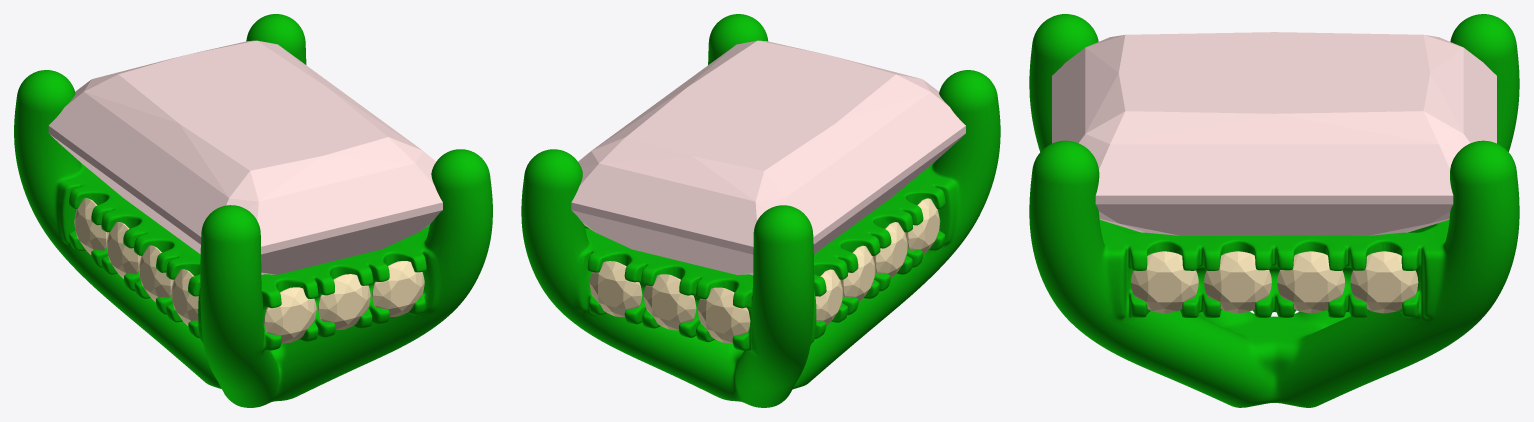
3 renders of one model, left to right at view 1: azimuth 30°, elevation 25°; view 2: azimuth 150°, elevation 25°; view 3: azimuth 270°, elevation 25°, orthographic. The views are drawn at different scales.
Parts seen in each view (by area): view 1: Diamond_Radiant, Metal01, Diamond_Round.001, Diamond_Round, Diamond_Round.002, Diamond_Round.009, Diamond_Round.010, Diamond_Round.007, Diamond_Round.008; view 2: Diamond_Radiant, Metal01, Diamond_Round.013, Diamond_Round.011, Diamond_Round.012, Diamond_Round.007, Diamond_Round.008, Diamond_Round.009, Diamond_Round.010; view 3: Diamond_Radiant, Metal01, Diamond_Round.006, Diamond_Round.004, Diamond_Round.003, Diamond_Round.005.
Part boxes in pixels (box(x1,y1,x2,y2)): Diamond_Radiant: box(48, 40, 442, 274); Metal01: box(14, 14, 492, 407); Diamond_Round.001: box(318, 274, 370, 329); Diamond_Round: box(264, 287, 316, 343); Diamond_Round.002: box(372, 261, 424, 316); Diamond_Round.009: box(106, 222, 141, 278); Diamond_Round.010: box(74, 198, 108, 254); Diamond_Round.007: box(139, 245, 173, 302); Diamond_Round.008: box(171, 269, 198, 325); Diamond_Radiant: box(571, 40, 965, 275); Metal01: box(521, 14, 1000, 407); Diamond_Round.013: box(643, 274, 696, 330); Diamond_Round.011: box(697, 287, 750, 343); Diamond_Round.012: box(589, 261, 642, 316); Diamond_Round.007: box(873, 222, 907, 278); Diamond_Round.008: box(905, 198, 940, 254); Diamond_Round.009: box(840, 245, 875, 302); Diamond_Round.010: box(815, 269, 843, 325); Diamond_Radiant: box(1052, 32, 1496, 235); Metal01: box(1029, 14, 1519, 407); Diamond_Round.006: box(1350, 251, 1418, 313); Diamond_Round.004: box(1131, 251, 1198, 313); Diamond_Round.003: box(1204, 251, 1271, 313); Diamond_Round.005: box(1277, 251, 1344, 313).
Bounding box in the file's own units: 5.76 × 5.49 × 7.6.
